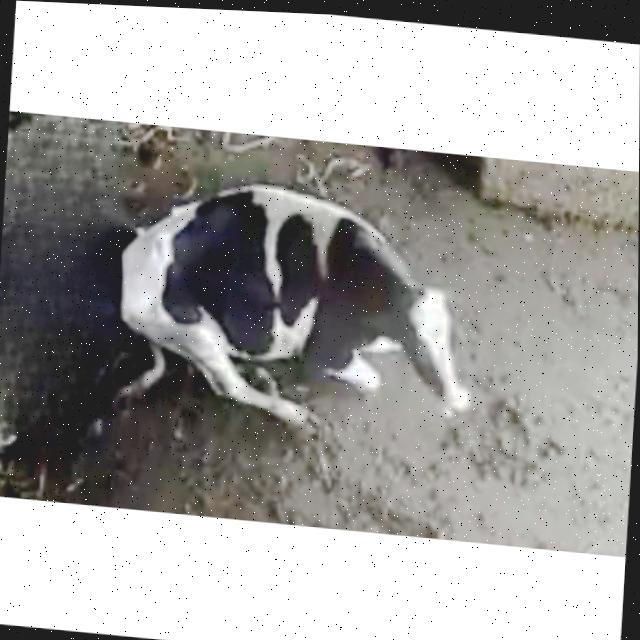lay: (105, 161, 532, 457)
